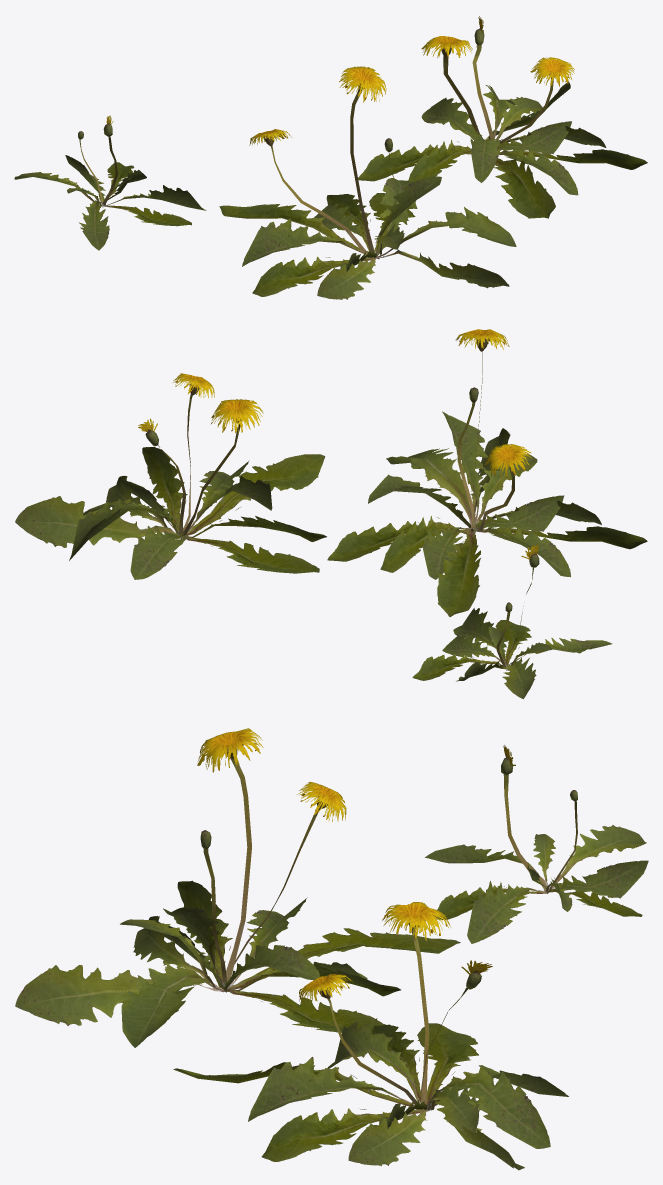
File: cicek.glb
3 views of the same model, one above another, from view 1: azimuth 30°, elevation 25°; view 2: azimuth 150°, elevation 25°; view 3: azimuth 270°, elevation 25° (orthographic). The views are drawn at different scales.
Visible parts, largest first — view 1: cicek; view 2: cicek; view 3: cicek.
Part boxes in pixels (x1,y1,x2,y2): cicek: (14,16,647,299); cicek: (15,329,647,699); cicek: (15,728,648,1170).
Bounding box in the file's own units: 1.08 × 0.38 × 0.8693.
1 material, 1 textured.
